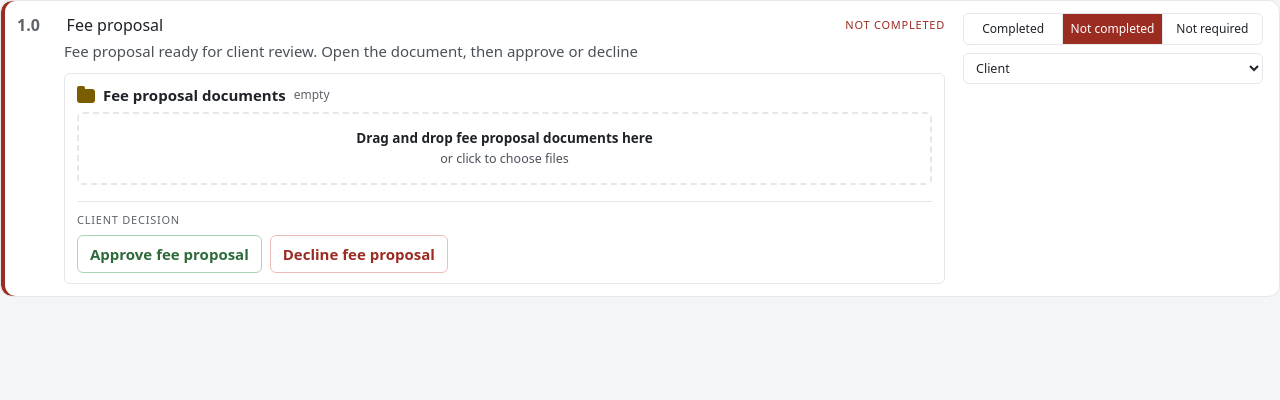
Test case: approval panel: recording a decision › opens the form focused with the optional comment, and Cancel closes it
The width and height of the screenshot is (1280, 400).
Click the button "Approve fee proposal": (169, 254) [77, 234, 262, 273]
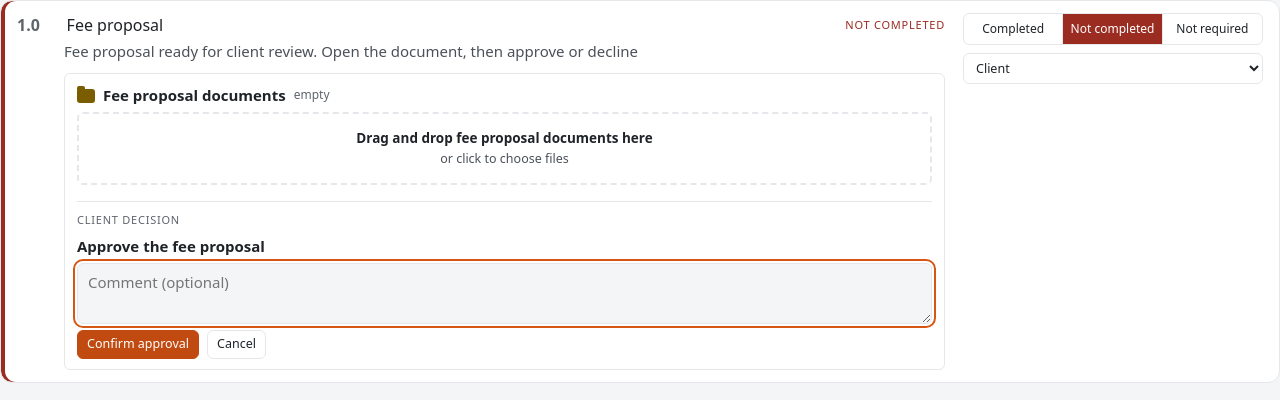
Expected: the button "Confirm approval" is shown, [77, 330, 199, 359]
Click the button "Cancel": (236, 344) [207, 330, 266, 359]
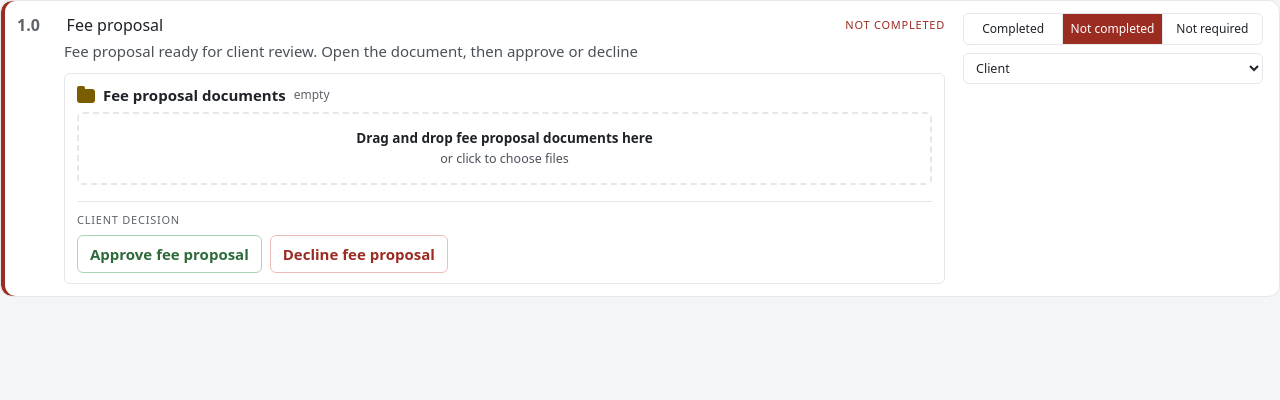
Expected: the button "Approve fee proposal" is shown, [77, 234, 262, 273]
